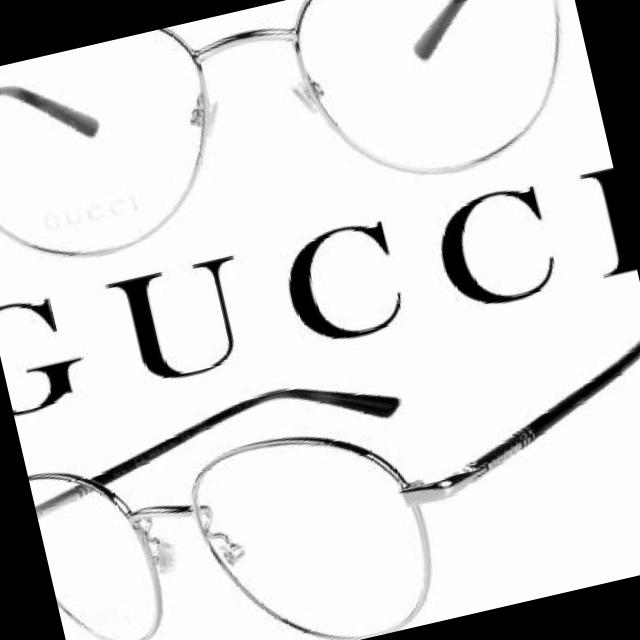glasses: (21, 303, 640, 640), (0, 0, 607, 286)
